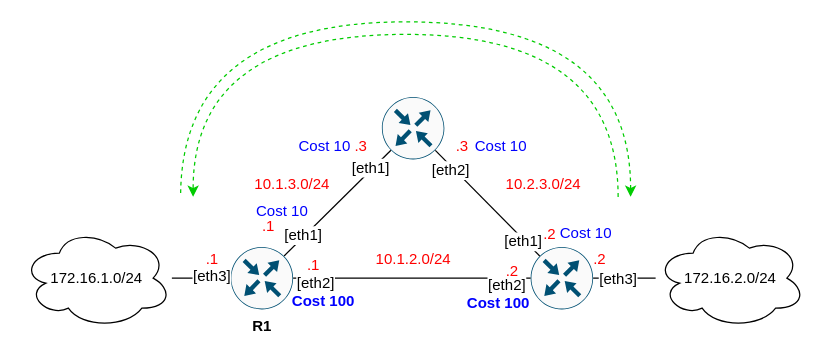
Some shapes in this 828 by 358 pixel diagram are drawn without their labels. Here are the shapes that lost their labels. From the top down, the centre of each, then its label:
At point (412, 127): "R3".
At point (561, 277): "R2".
